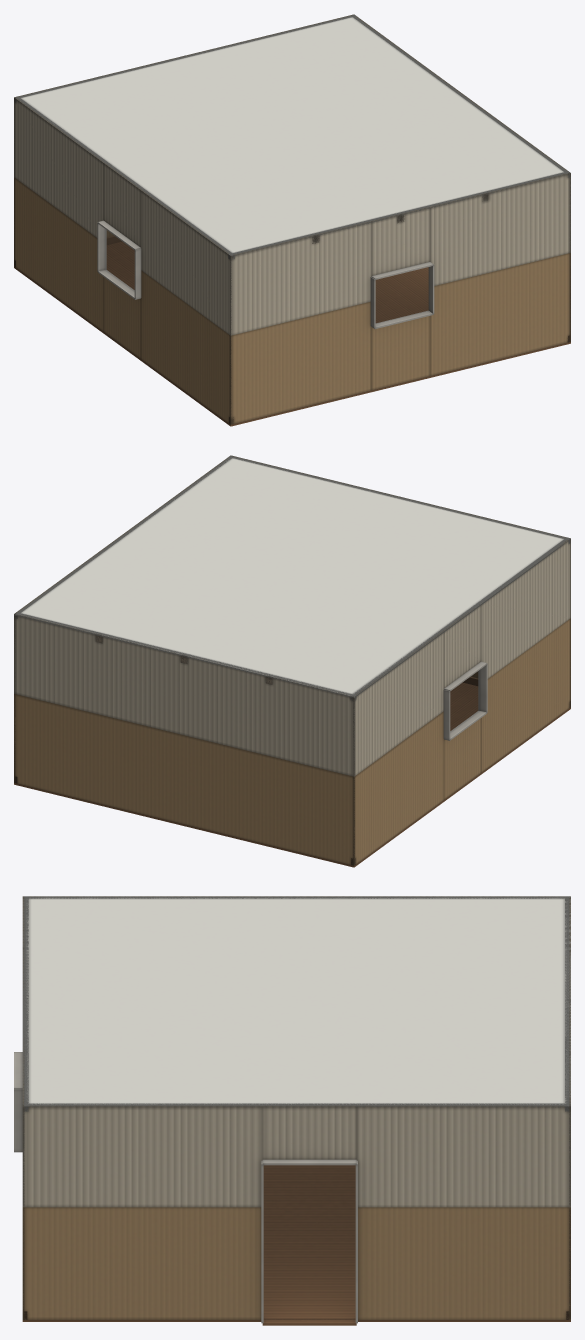
Rendered from house_int_living.glb.
3 views of the same model, one above another, from view 1: azimuth 30°, elevation 25°; view 2: azimuth 150°, elevation 25°; view 3: azimuth 270°, elevation 25° (orthographic). The views are drawn at different scales.
Visible parts, largest first — view 1: house_int_living; view 2: house_int_living; view 3: house_int_living.
Boxes of the visible parts, bbox=[...] form: house_int_living: bbox=[14, 14, 570, 426]; house_int_living: bbox=[14, 455, 570, 867]; house_int_living: bbox=[14, 896, 570, 1325].
Size of the model in its own units: 6 by 2.78 by 6.5.
1 material, 1 textured.
